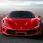car: (2, 5, 41, 37)
